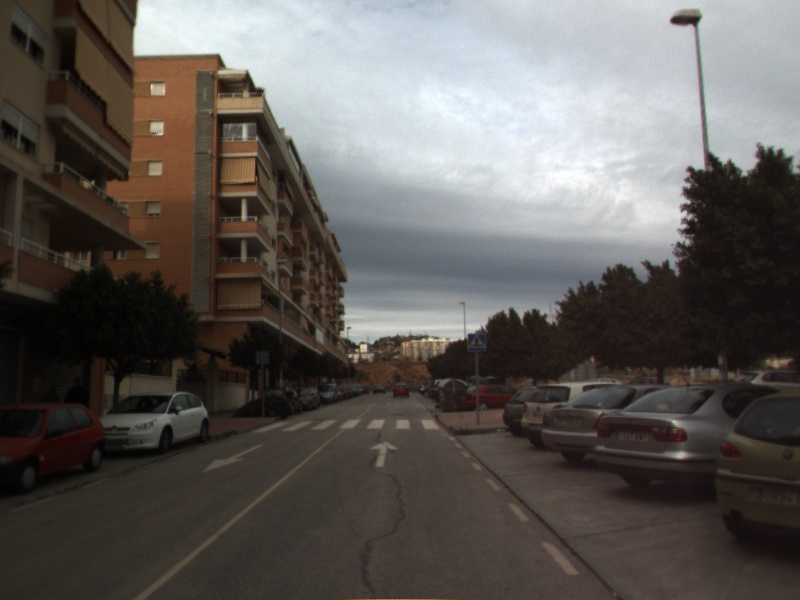STRAIGHT: (367, 439, 400, 469)
